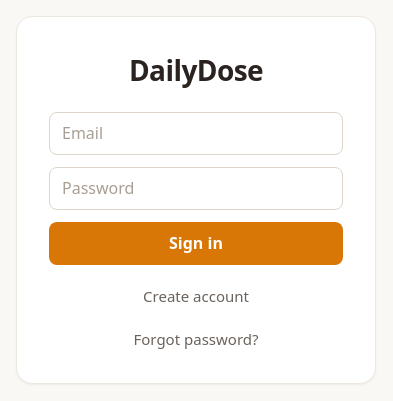
Test: AuthForm › toggles to create-account mode
Step 1. Click the button "Create account" → (196, 296), box [49, 277, 343, 316]
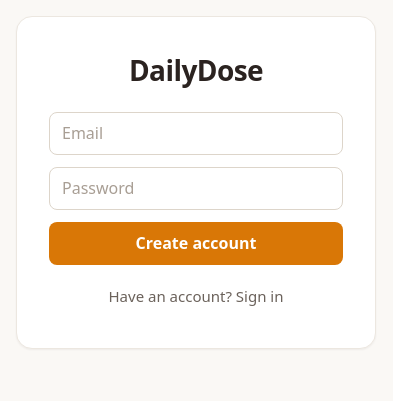
Expected: the button "Create account" is shown, [49, 222, 343, 265]
